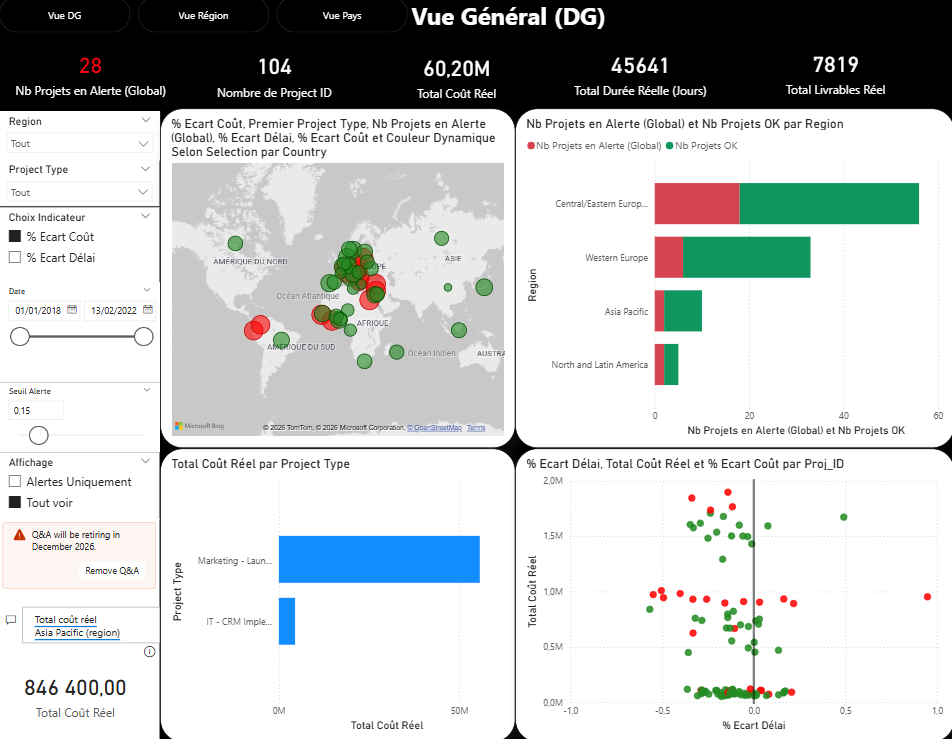

Layout of this report page (visuals, bound fields, positions):
{"tool":"powerbi","page":{"name":"Tableau de bord","canvas":[1280,1000],"ordinal":0},"visuals":[{"type":"group","id":"g1","title":"Groupe 2","box":[0,0,1280,1000],"z":1000},{"type":"textbox","box":[572.9,0,236.7,52.4],"z":1000,"group":"g1"},{"type":"clusteredBarChart","fields":{"Category":["Country_Profiles.Country"],"Y":["Actual_Costs.Total Coût Réel"]},"box":[221.1,155,505,845],"z":2000,"group":"g1"},{"type":"bookmarkNavigator","box":[0,0,548.7,49.4],"z":3000},{"type":"slicer","fields":{"Values":["Project type.Project Type"]},"box":[0,220.5,220.5,60.7],"z":3000,"group":"g1"},{"type":"barChart","fields":{"Category":["Country_Profiles.Country"],"Y":["Actual_Costs.Nb Projets en Alerte (Global)","Actual_Costs.Nb Projets OK"]},"box":[725,155,555,845],"z":4000,"group":"g1"},{"type":"slicer","fields":{"Values":["Choix Indicateur.Choix Indicateur"]},"box":[0,378.8,220.5,102.1],"z":5000,"group":"g1"},{"type":"card","fields":{"Values":["Actual_Costs.Nb Projets en Alerte"]},"box":[0,62.2,245.6,81.4],"z":6000,"group":"g1"},{"type":"card","fields":{"Values":["Actual_Costs.Total Coût Réel"]},"box":[491.3,62.2,245.6,87.3],"z":7000,"group":"g1"},{"type":"card","fields":{"Values":["Count(Projects_plans.Project ID)"]},"box":[245.6,62.2,245.6,84.3],"z":8000,"group":"g1"},{"type":"card","fields":{"Values":["Actual_Costs.Total Livrables Réel"]},"box":[982.6,56.2,279.7,87.3],"z":9000,"group":"g1"},{"type":"card","fields":{"Values":["Actual_Duration.Total Durée Réelle"]},"box":[736.9,59.2,245.6,87.3],"z":10000,"group":"g1"},{"type":"slicer","fields":{"Values":["Projects_plans.Start Date"]},"box":[0,480.9,220.5,87.3],"z":11000,"group":"g1"},{"type":"qnaVisual","box":[0,568.7,220.3,430.9],"z":12000,"group":"g1"},{"type":"slicer","fields":{"Values":["Seuil Alerte 2.Seuil Alerte"]},"box":[0,282.5,220.3,96.5],"z":13000,"group":"g1"},{"type":"slicer","fields":{"Values":["Country_Profiles.Country"]},"box":[0,157.1,220.9,63.8],"z":14000,"group":"g1"}]}

Visuals, with their boxes on the page's 1280x1000 design canvas (x1, y1, x2, y2). These are canvas units, not pixel positions in the 952x739 screenshot, which may show the page scaled, cropped or inside an application window:
"Groupe 2" group: bbox=[0, 0, 1280, 1000]
textbox: bbox=[573, 0, 810, 52]
clusteredBarChart - Country_Profiles.Country x Actual_Costs.Total Coût Réel: bbox=[221, 155, 726, 1000]
bookmarkNavigator: bbox=[0, 0, 549, 49]
slicer - Project type.Project Type: bbox=[0, 220, 220, 281]
barChart - Country_Profiles.Country x Actual_Costs.Nb Projets en Alerte (Global): bbox=[725, 155, 1280, 1000]
slicer - Choix Indicateur.Choix Indicateur: bbox=[0, 379, 220, 481]
card - Actual_Costs.Nb Projets en Alerte: bbox=[0, 62, 246, 144]
card - Actual_Costs.Total Coût Réel: bbox=[491, 62, 737, 150]
card - Count(Projects_plans.Project ID): bbox=[246, 62, 491, 146]
card - Actual_Costs.Total Livrables Réel: bbox=[983, 56, 1262, 144]
card - Actual_Duration.Total Durée Réelle: bbox=[737, 59, 982, 146]
slicer - Projects_plans.Start Date: bbox=[0, 481, 220, 568]
qnaVisual: bbox=[0, 569, 220, 1000]
slicer - Seuil Alerte 2.Seuil Alerte: bbox=[0, 282, 220, 379]
slicer - Country_Profiles.Country: bbox=[0, 157, 221, 221]
